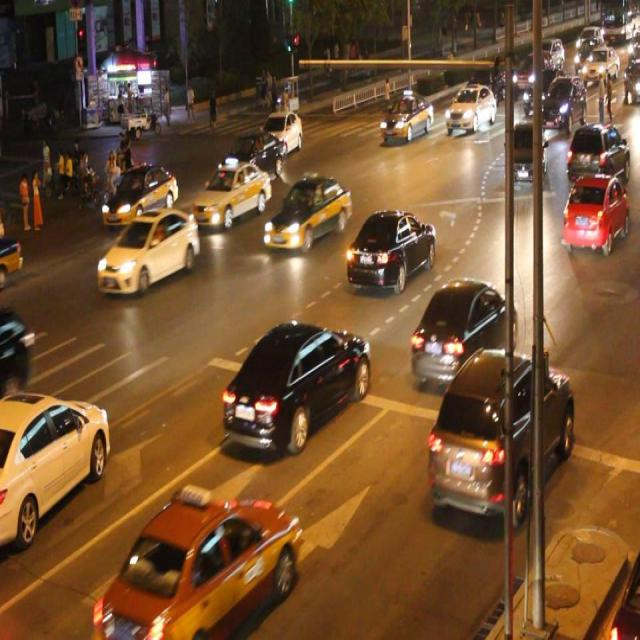car: (97, 481, 300, 640), (426, 347, 573, 512), (223, 322, 369, 450), (1, 388, 110, 544), (410, 279, 517, 382), (98, 206, 198, 293), (346, 206, 434, 292), (262, 176, 351, 246), (192, 156, 272, 227), (560, 172, 628, 246), (102, 164, 179, 224), (566, 121, 628, 188), (219, 126, 284, 184), (1, 306, 33, 397), (443, 80, 496, 130), (380, 92, 432, 140), (508, 122, 544, 180), (258, 111, 303, 156), (1, 234, 24, 284)
